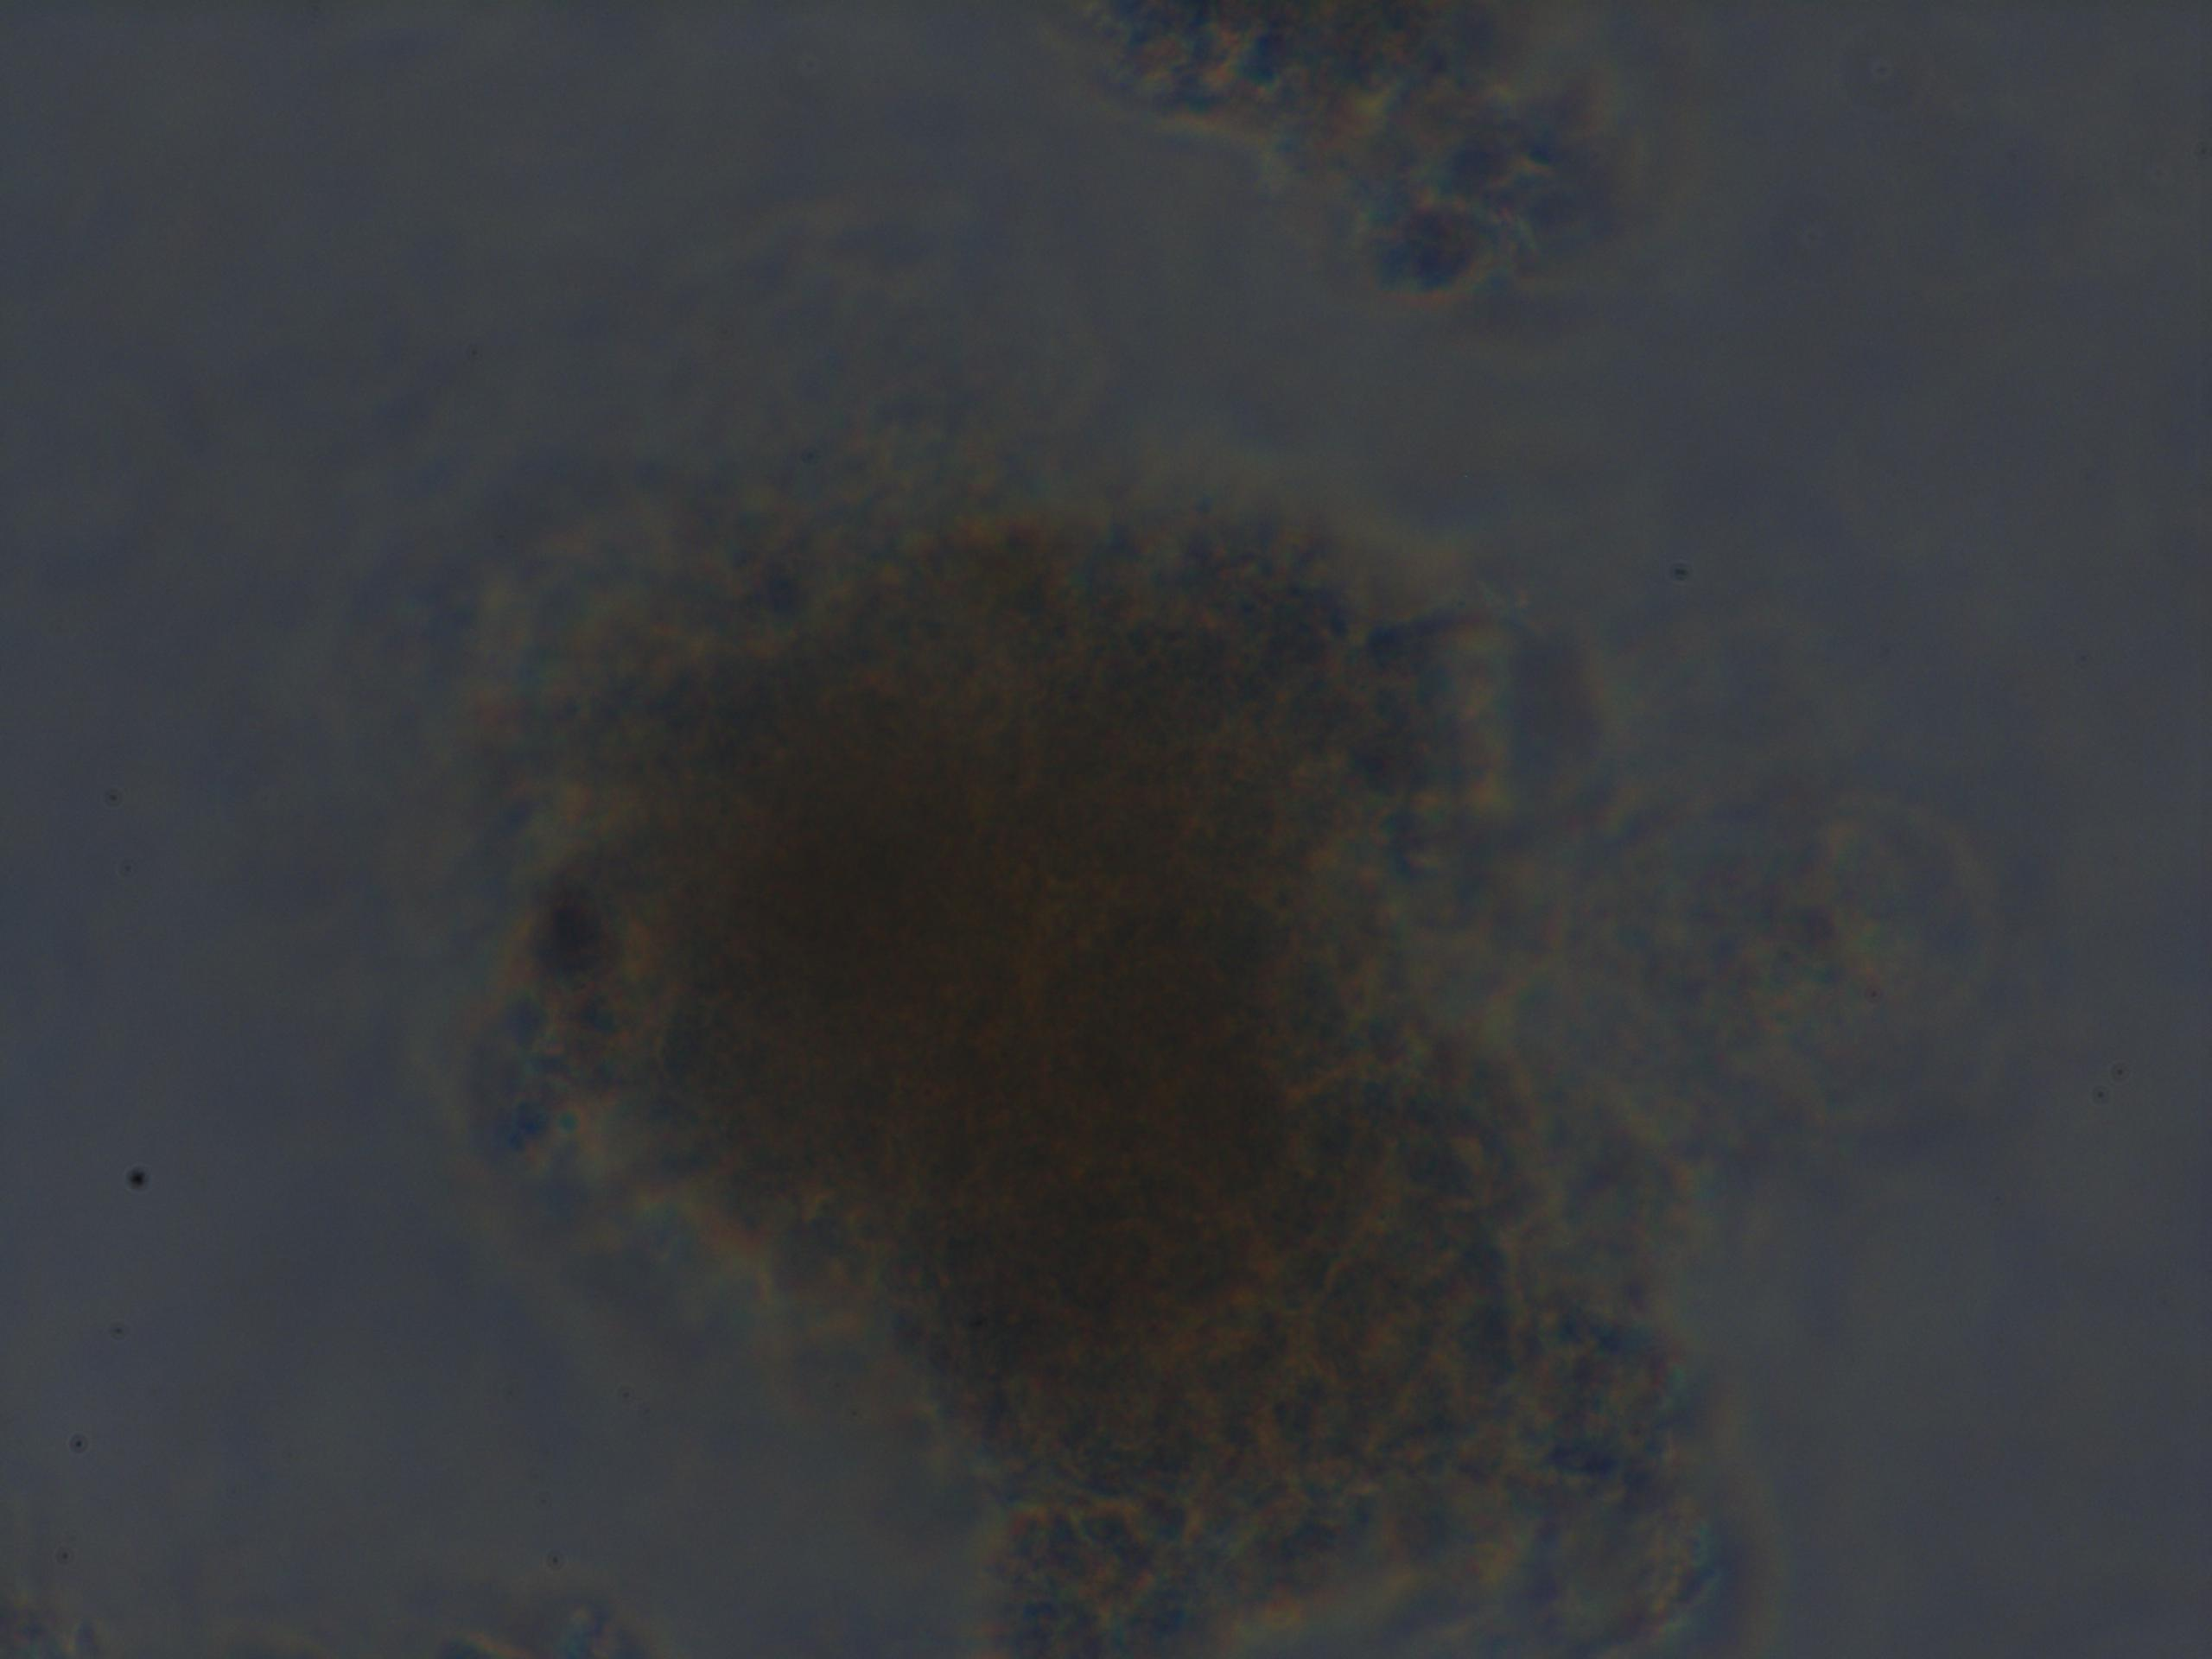spherical_floc: (491, 481, 1594, 1640)
